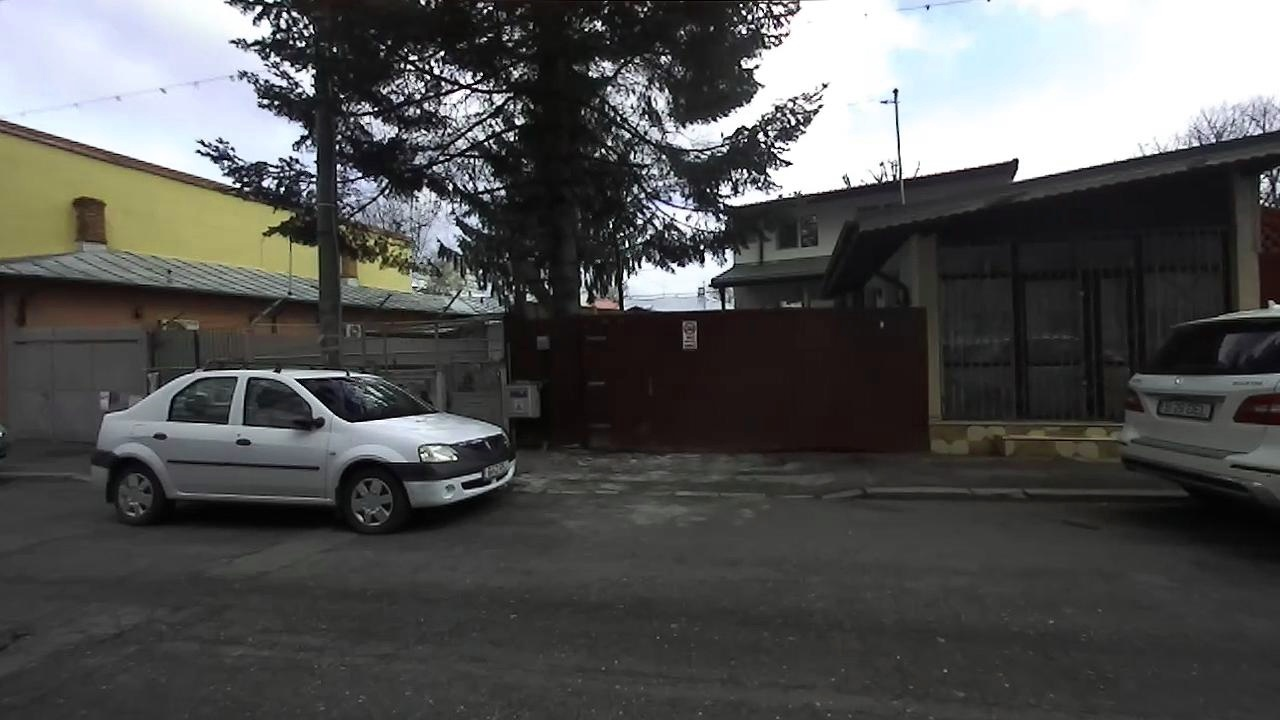pothole: (1, 624, 33, 658)
